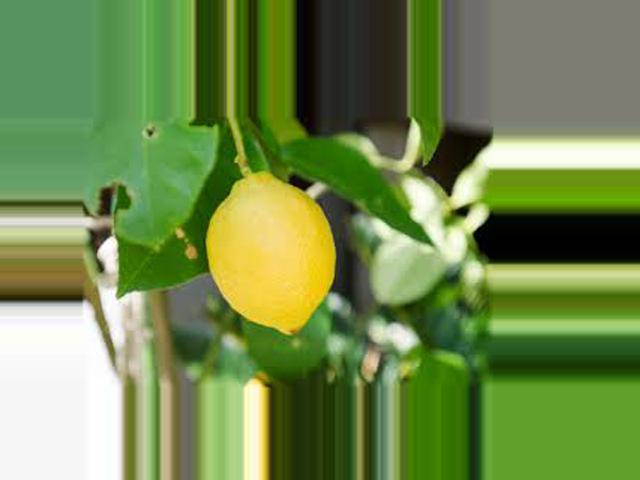lemon: (204, 167, 350, 352)
